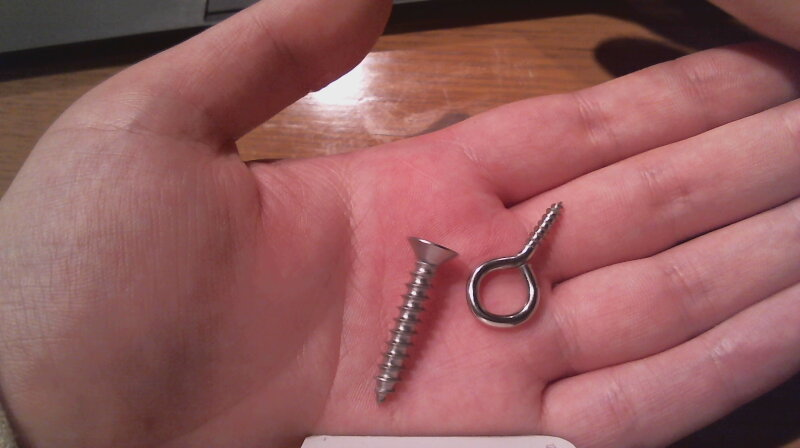O001: (465, 198, 564, 331)
S001: (365, 232, 459, 411)
